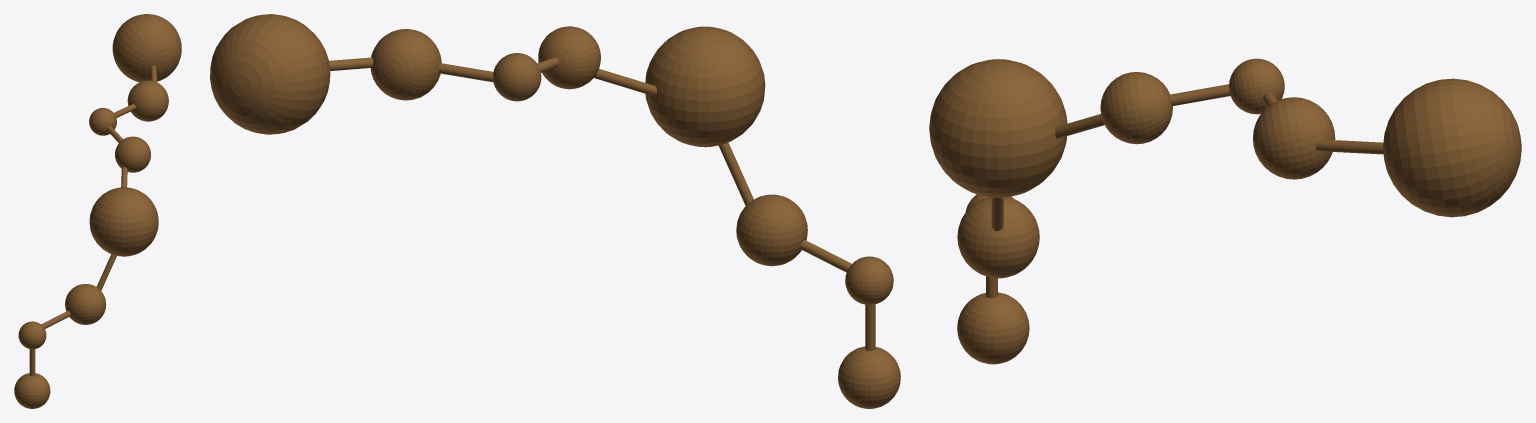
Rendered from molecule1.glb.
3 views of the same model, side by side, from view 1: azimuth 30°, elevation 25°; view 2: azimuth 150°, elevation 25°; view 3: azimuth 270°, elevation 25° (orthographic). The views are drawn at different scales.
Visible parts, largest first — view 1: Sphère.004, Sphère.024, Sphère.003, Sphère.025, Sphère, Sphère.027, Sphère.001, Sphère.026, Cylindre.002, Cylindre.001, Cylindre; view 2: Sphère.024, Sphère.004, Sphère.003, Sphère.025, Sphère, Sphère.027, Sphère.001, Sphère.026, Cylindre.002, Cylindre.021, Cylindre.019; view 3: Sphère.024, Sphère.004, Sphère.025, Sphère.003, Sphère.027, Sphère, Sphère.026, Cylindre.018, Cylindre.020, Cylindre.021.
Boxes of the visible parts, left/top/right/bottom form: Sphère.004: left=89, top=187, right=158, bottom=256; Sphère.024: left=112, top=14, right=181, bottom=82; Sphère.003: left=65, top=284, right=106, bottom=324; Sphère.025: left=127, top=80, right=168, bottom=121; Sphère: left=14, top=373, right=50, bottom=408; Sphère.027: left=115, top=136, right=150, bottom=172; Sphère.001: left=18, top=321, right=46, bottom=349; Sphère.026: left=89, top=108, right=116, bottom=135; Cylindre.002: left=96, top=254, right=116, bottom=290; Cylindre.001: left=41, top=311, right=70, bottom=328; Cylindre: left=29, top=349, right=35, bottom=376; Sphère.024: left=210, top=14, right=330, bottom=134; Sphère.004: left=645, top=26, right=765, bottom=147; Sphère.003: left=736, top=194, right=807, bottom=266; Sphère.025: left=370, top=29, right=441, bottom=100; Sphère: left=838, top=346, right=900, bottom=408; Sphère.027: left=538, top=26, right=600, bottom=89; Sphère.001: left=845, top=256, right=893, bottom=304; Sphère.026: left=493, top=53, right=541, bottom=101; Cylindre.002: left=718, top=142, right=753, bottom=205; Cylindre.021: left=594, top=69, right=656, bottom=96; Cylindre.019: left=438, top=63, right=493, bottom=82; Sphère.024: left=1383, top=78, right=1521, bottom=217; Sphère.004: left=929, top=59, right=1067, bottom=197; Sphère.025: left=1253, top=97, right=1335, bottom=179; Sphère.003: left=957, top=197, right=1039, bottom=278; Sphère.027: left=1100, top=72, right=1172, bottom=144; Sphère: left=957, top=292, right=1029, bottom=364; Sphère.026: left=1229, top=58, right=1284, bottom=114; Cylindre.018: left=1315, top=139, right=1383, bottom=154; Cylindre.020: left=1170, top=84, right=1230, bottom=106; Cylindre.021: left=1055, top=114, right=1104, bottom=138.
Size of the model in its own units: 19.38 by 16.82 by 18.06.
15 materials, 15 textured.
